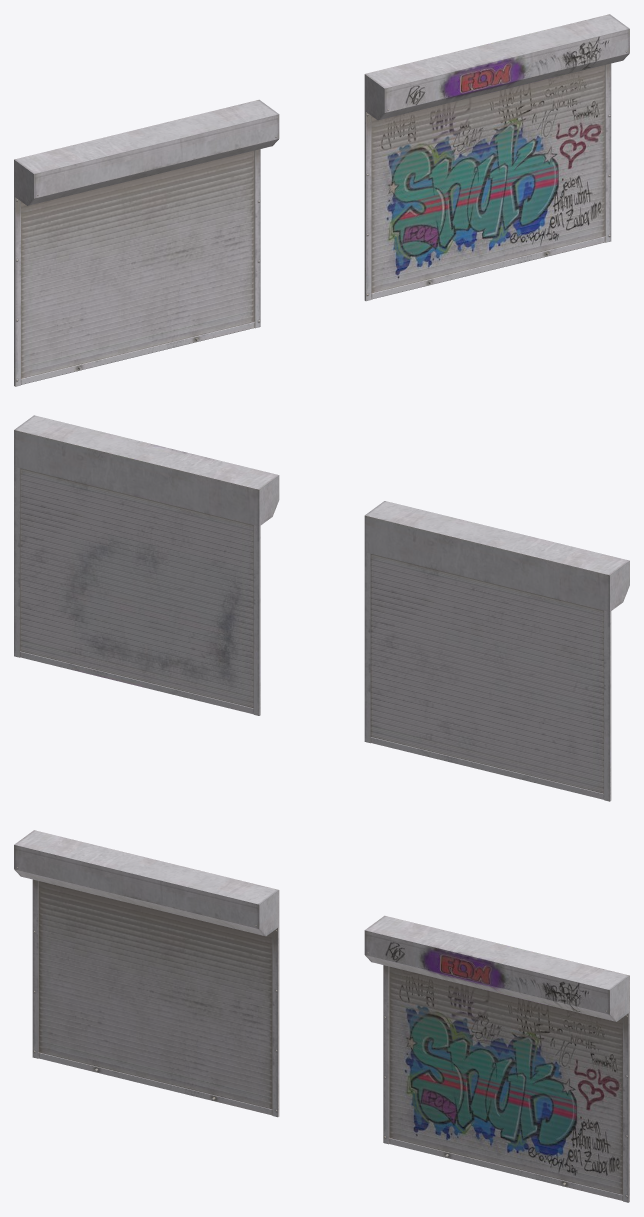
The model's file is rollershutter_window_01.glb.
3 views of the same model, one above another, from view 1: azimuth 30°, elevation 25°; view 2: azimuth 150°, elevation 25°; view 3: azimuth 330°, elevation 25° (orthographic).
Visible parts, largest first — view 1: rollershutter_window_01_graffiti, rollershutter_window_01; view 2: rollershutter_window_01, rollershutter_window_01_graffiti; view 3: rollershutter_window_01, rollershutter_window_01_graffiti.
Boxes of the visible parts, x1,y1,x2,y2 form: rollershutter_window_01_graffiti: (364,14,629,301); rollershutter_window_01: (14,99,279,386); rollershutter_window_01: (364,501,629,801); rollershutter_window_01_graffiti: (14,415,279,715); rollershutter_window_01: (14,830,279,1117); rollershutter_window_01_graffiti: (364,915,629,1202).
Bounding box in the file's own units: 5.1 × 1.85 × 0.2999.
2 materials, 2 textured.
